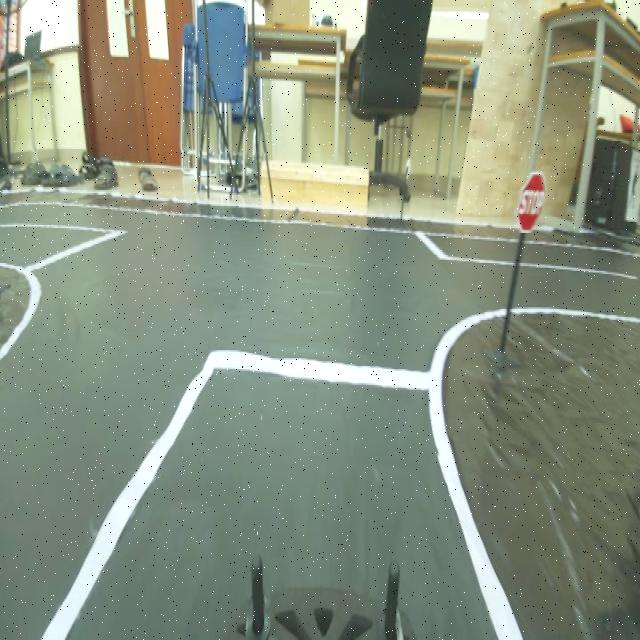stop: (516, 166, 550, 232)
